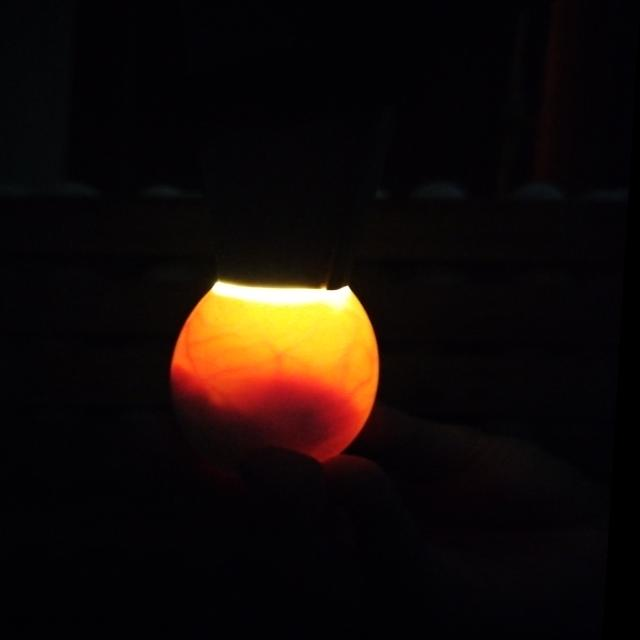Embriao: (172, 384, 362, 476)
